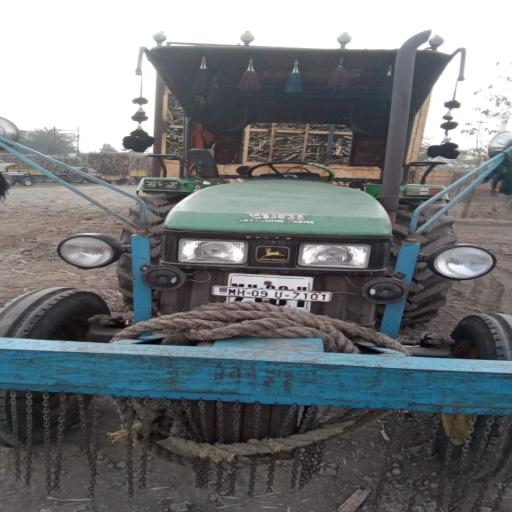number_plate: (212, 274, 331, 311)
